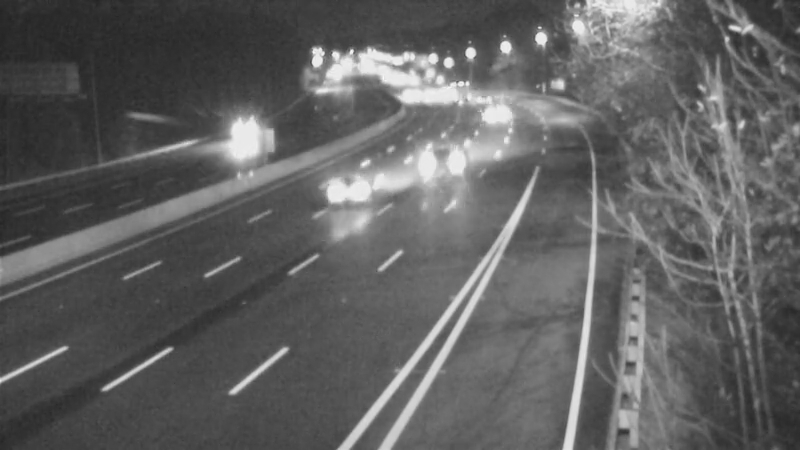vehicle: (309, 142, 389, 222), (383, 70, 433, 120), (430, 64, 480, 114), (453, 73, 503, 123), (461, 93, 511, 143), (428, 118, 478, 168), (221, 115, 271, 165)
